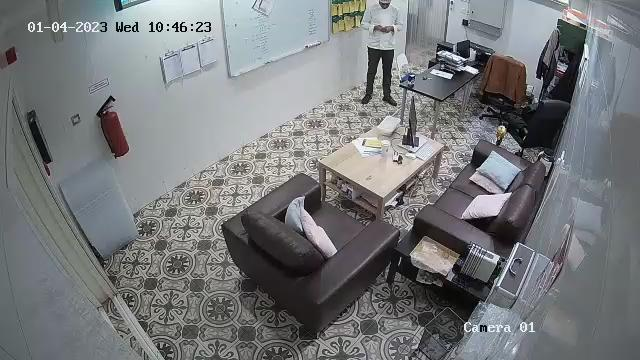no_apron: (371, 5, 395, 53)
